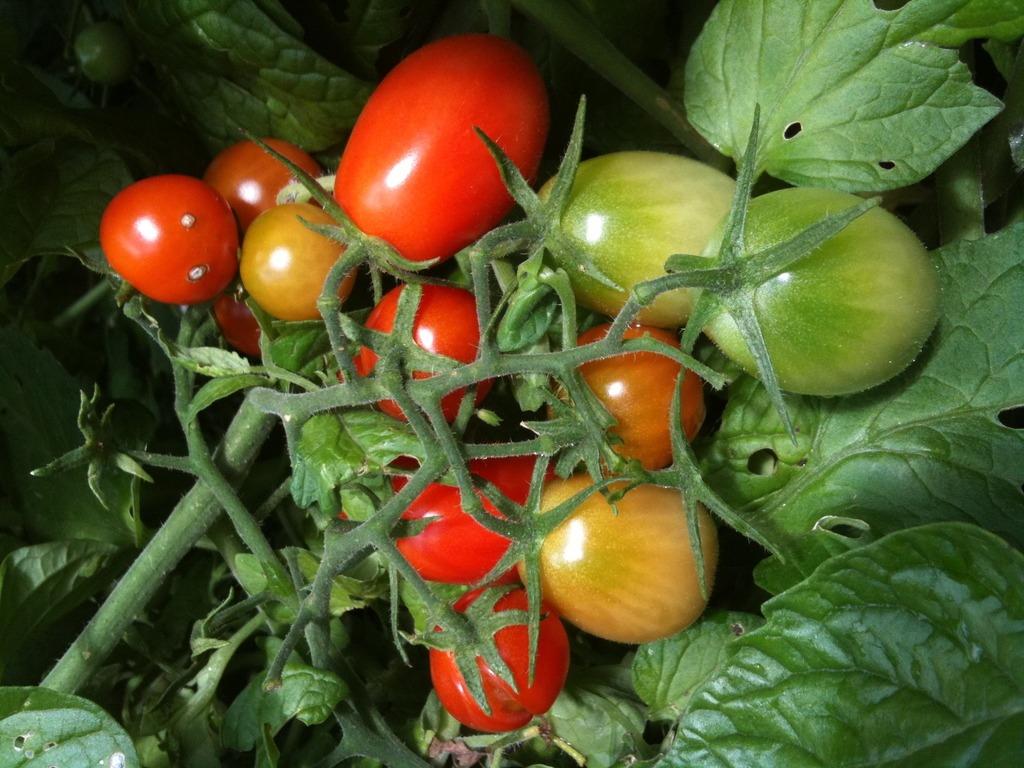Tomato: (97, 133, 942, 731), (243, 29, 549, 272), (94, 162, 239, 312)
